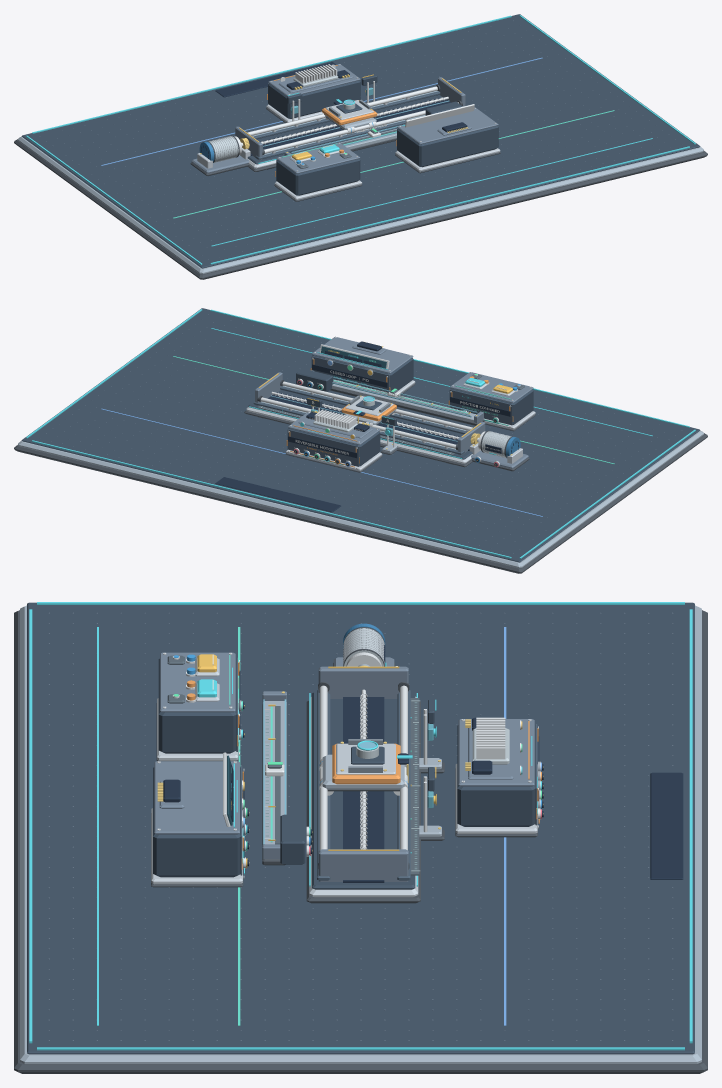
The model's file is Level43_Complete_ArtKit_Showcase.fbx.
The picture shows the model from 3 angles, top to bottom: view 1: azimuth 30°, elevation 25°; view 2: azimuth 150°, elevation 25°; view 3: azimuth 270°, elevation 25°; orthographic projection. The views are drawn at different scales.
Visible parts, largest first — view 1: Model::00_ArtKit_DisplayBoard__L43_BENCH_GraphitePanel, Model::00_ArtKit_DisplayBoard__L43_BENCH_TitaniumEdgeTray, Model::00_ArtKit_DisplayBoard__L43_BENCH_RubberShockBase, Model::06_L43_Controller__L43_CTRL_Chassis, Model::05_L43_CommandModule__L43_CMD_Chassis, Model::07_L43_MotorDriver__L43_DRIVER_Chassis, Model::06_L43_Controller__L43_CTRL_Top_Lid, Model::00_ArtKit_DisplayBoard__L43_BENCH_ShortEmissiveEdge_-, Model::00_ArtKit_DisplayBoard__L43_BENCH_ShortEmissiveEdge_6, Model::01_L43_RailBase__L43_RAIL_CenterGutter, Model::05_L43_CommandModule__L43_CMD_Top_Lid, Model::01_L43_RailBase__L43_RAIL_GraphiteRailDeck (+16 smaller); view 2: Model::00_ArtKit_DisplayBoard__L43_BENCH_GraphitePanel, Model::00_ArtKit_DisplayBoard__L43_BENCH_TitaniumEdgeTray, Model::00_ArtKit_DisplayBoard__L43_BENCH_RubberShockBase, Model::00_ArtKit_DisplayBoard__L43_BENCH_GameLevelLabelPlate, Model::06_L43_Controller__L43_CTRL_Top_Lid, Model::00_ArtKit_DisplayBoard__L43_BENCH_ShortEmissiveEdge_-, Model::04_L43_PositionSensor__L43_POS_EncoderAluminumTrack, Model::07_L43_MotorDriver__L43_DRIVER_Front_Console_Plate, Model::05_L43_CommandModule__L43_CMD_Top_Lid, Model::05_L43_CommandModule__L43_CMD_Front_Console_Plate, Model::06_L43_Controller__L43_CTRL_Front_Console_Plate, Model::01_L43_RailBase__L43_RAIL_CenterGutter (+19 smaller); view 3: Model::00_ArtKit_DisplayBoard__L43_BENCH_GraphitePanel, Model::00_ArtKit_DisplayBoard__L43_BENCH_TitaniumEdgeTray, Model::00_ArtKit_DisplayBoard__L43_BENCH_RubberShockBase, Model::06_L43_Controller__L43_CTRL_Top_Lid, Model::01_L43_RailBase__L43_RAIL_GraphiteRailDeck, Model::06_L43_Controller__L43_CTRL_Chassis, Model::01_L43_RailBase__L43_RAIL_CenterGutter, Model::00_ArtKit_DisplayBoard__L43_BENCH_GameLevelLabelPlate, Model::05_L43_CommandModule__L43_CMD_Chassis, Model::07_L43_MotorDriver__L43_DRIVER_Chassis, Model::05_L43_CommandModule__L43_CMD_Top_Lid, Model::01_L43_RailBase__L43_RAIL_EndStop_1 (+26 smaller).
Boxes of the visible parts, box(x1,y1,x2,y2) form: Model::00_ArtKit_DisplayBoard__L43_BENCH_GraphitePanel: box(21, 14, 700, 268); Model::00_ArtKit_DisplayBoard__L43_BENCH_TitaniumEdgeTray: box(18, 136, 703, 273); Model::00_ArtKit_DisplayBoard__L43_BENCH_RubberShockBase: box(14, 139, 707, 279); Model::06_L43_Controller__L43_CTRL_Chassis: box(397, 126, 498, 167); Model::05_L43_CommandModule__L43_CMD_Chassis: box(276, 159, 360, 195); Model::07_L43_MotorDriver__L43_DRIVER_Chassis: box(268, 80, 360, 118); Model::06_L43_Controller__L43_CTRL_Top_Lid: box(397, 107, 498, 144); Model::00_ArtKit_DisplayBoard__L43_BENCH_ShortEmissiveEdge_-: box(32, 15, 511, 133); Model::00_ArtKit_DisplayBoard__L43_BENCH_ShortEmissiveEdge_6: box(210, 146, 689, 264); Model::01_L43_RailBase__L43_RAIL_CenterGutter: box(250, 97, 450, 155); Model::05_L43_CommandModule__L43_CMD_Top_Lid: box(276, 142, 360, 173); Model::01_L43_RailBase__L43_RAIL_GraphiteRailDeck: box(247, 95, 442, 164); Model::00_ArtKit_DisplayBoard__L43_BENCH_GraphitePanel: box(21, 308, 700, 562); Model::00_ArtKit_DisplayBoard__L43_BENCH_TitaniumEdgeTray: box(18, 430, 703, 567); Model::00_ArtKit_DisplayBoard__L43_BENCH_RubberShockBase: box(14, 433, 707, 573); Model::00_ArtKit_DisplayBoard__L43_BENCH_GameLevelLabelPlate: box(215, 477, 340, 512); Model::06_L43_Controller__L43_CTRL_Top_Lid: box(312, 336, 413, 373); Model::00_ArtKit_DisplayBoard__L43_BENCH_ShortEmissiveEdge_-: box(32, 440, 511, 558); Model::04_L43_PositionSensor__L43_POS_EncoderAluminumTrack: box(332, 379, 481, 423); Model::07_L43_MotorDriver__L43_DRIVER_Front_Console_Plate: box(287, 429, 359, 466); Model::05_L43_CommandModule__L43_CMD_Top_Lid: box(450, 372, 533, 402); Model::05_L43_CommandModule__L43_CMD_Front_Console_Plate: box(449, 389, 512, 425); Model::06_L43_Controller__L43_CTRL_Front_Console_Plate: box(311, 356, 389, 392); Model::01_L43_RailBase__L43_RAIL_CenterGutter: box(268, 392, 469, 450); Model::00_ArtKit_DisplayBoard__L43_BENCH_GraphitePanel: box(27, 602, 694, 1054); Model::00_ArtKit_DisplayBoard__L43_BENCH_TitaniumEdgeTray: box(20, 605, 701, 1064); Model::00_ArtKit_DisplayBoard__L43_BENCH_RubberShockBase: box(14, 610, 707, 1073); Model::06_L43_Controller__L43_CTRL_Top_Lid: box(154, 761, 239, 834); Model::01_L43_RailBase__L43_RAIL_GraphiteRailDeck: box(312, 691, 415, 889); Model::06_L43_Controller__L43_CTRL_Chassis: box(153, 767, 240, 877); Model::01_L43_RailBase__L43_RAIL_CenterGutter: box(343, 697, 384, 882); Model::00_ArtKit_DisplayBoard__L43_BENCH_GameLevelLabelPlate: box(650, 772, 683, 879); Model::05_L43_CommandModule__L43_CMD_Chassis: box(158, 658, 236, 753); Model::07_L43_MotorDriver__L43_DRIVER_Chassis: box(457, 725, 535, 826); Model::05_L43_CommandModule__L43_CMD_Top_Lid: box(160, 652, 235, 712); Model::01_L43_RailBase__L43_RAIL_EndStop_1: box(318, 849, 408, 881).
Bounding box in the file's own units: 22.3 × 2.36 × 14.25.
